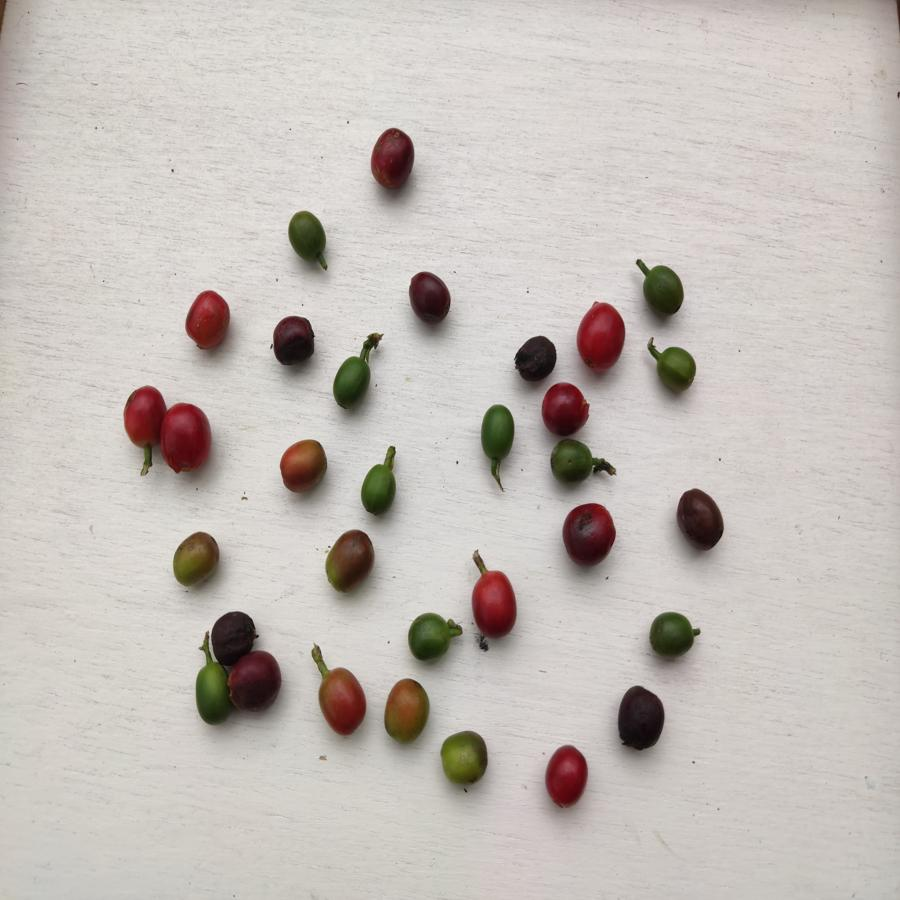Inmaduro: (477, 404, 517, 482), (283, 208, 335, 267), (404, 612, 456, 667), (641, 260, 688, 317), (195, 661, 233, 725), (648, 610, 696, 658), (548, 441, 601, 484), (329, 355, 372, 408), (654, 342, 699, 392), (358, 458, 396, 514)
Maduro: (576, 301, 627, 376), (162, 402, 214, 474), (470, 565, 523, 635), (185, 291, 231, 356), (122, 385, 168, 450), (545, 742, 590, 807), (541, 382, 592, 435)
Pinton: (319, 666, 368, 741), (319, 530, 377, 588), (438, 729, 489, 789), (382, 679, 429, 742), (278, 440, 328, 496), (173, 532, 219, 588)
Sobremaduro: (562, 504, 619, 565), (614, 685, 665, 753), (228, 653, 284, 713), (674, 484, 725, 549), (367, 126, 417, 190), (409, 270, 454, 326), (271, 314, 317, 367), (211, 610, 258, 658), (513, 335, 558, 381)
